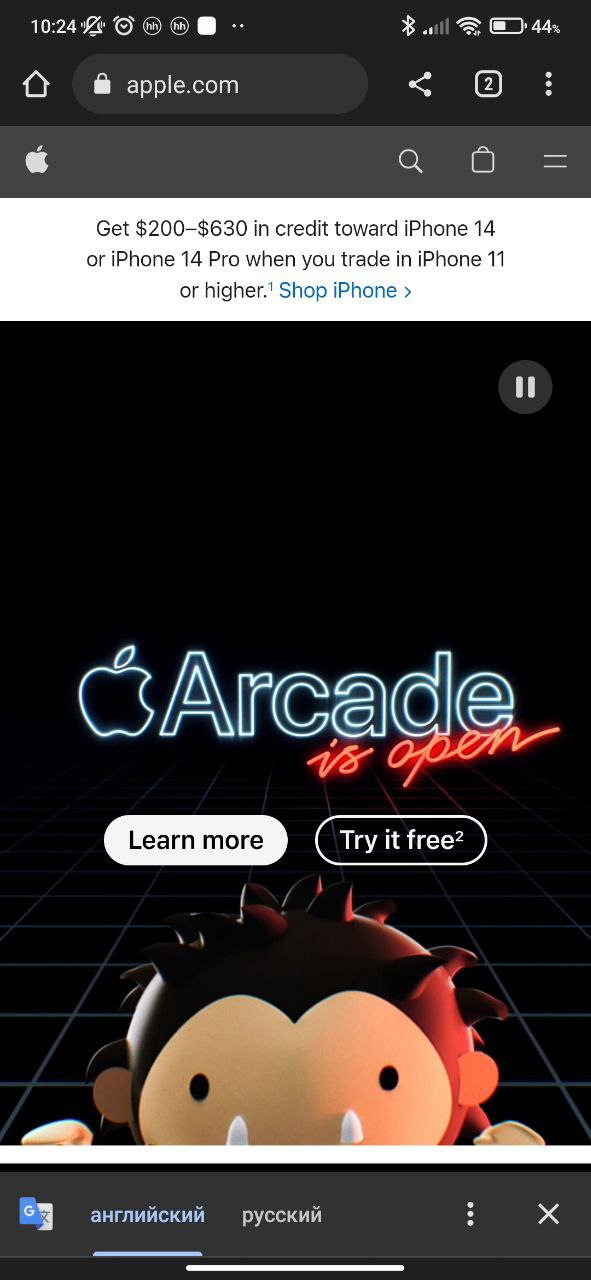burger_menu: (538, 145, 566, 173)
